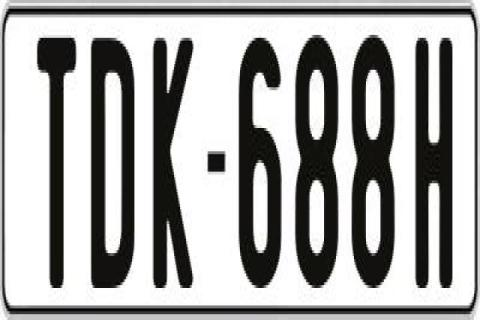0: (350, 35, 398, 291), (294, 35, 338, 299), (237, 35, 281, 288)
D: (90, 38, 134, 288)
H: (414, 38, 458, 288)
K: (152, 29, 194, 291)
T: (34, 32, 80, 291)
